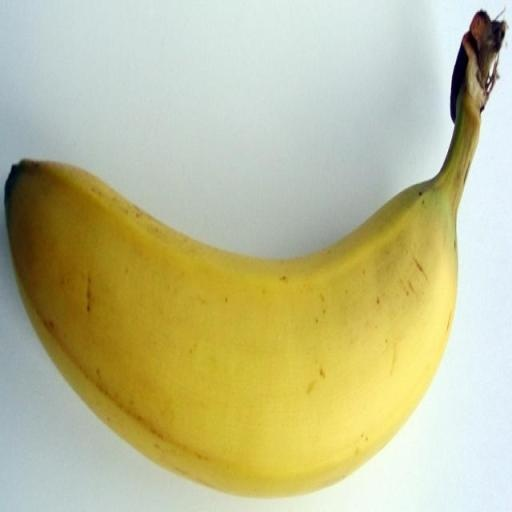fruit: (0, 106, 25, 413)
